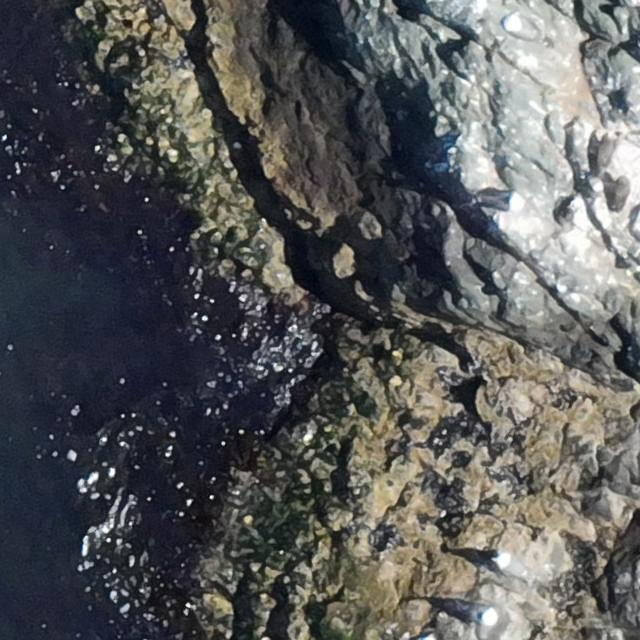umineko: (502, 13, 545, 47), (482, 190, 527, 211), (496, 554, 532, 580), (472, 607, 498, 637)
